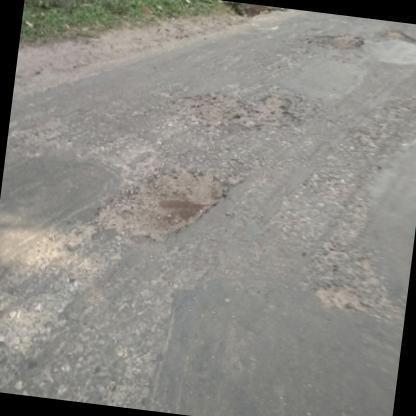pothole: (93, 168, 235, 246), (187, 93, 303, 129), (316, 280, 386, 313), (312, 32, 370, 51)
